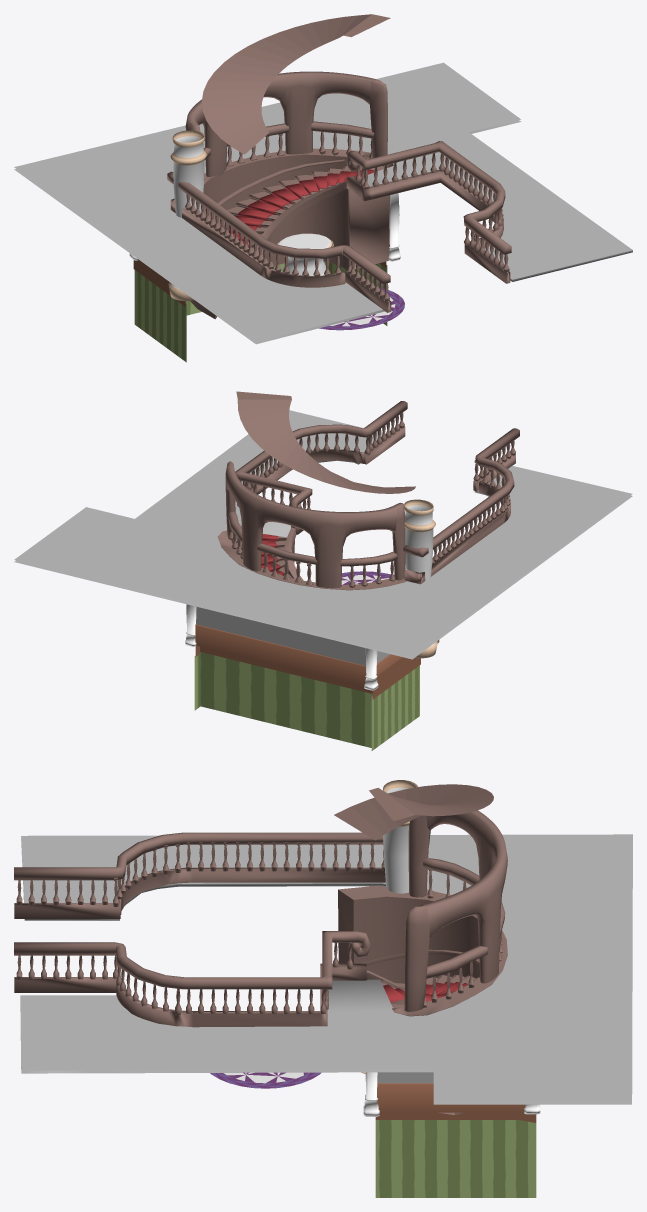
The model's file is NEW HALL pour le beau serge.fbx.
3 renders of one model, top to bottom at view 1: azimuth 30°, elevation 25°; view 2: azimuth 150°, elevation 25°; view 3: azimuth 270°, elevation 25°, orthographic. The views are drawn at different scales.
Visible parts, largest first — view 1: pisodos_061, Plane_002, ESCALERAS_003.002, Cube_096, pisodos_011, wall001_18, pisodos_026, pisodos_008, ESCALERAS_001, pisodos_006, ESCALERAS_003, pisodos_044 (+5 smaller); view 2: pisodos_061, wall001_20, pisodos_011, Cube_001_23, Cube_096, ESCALERAS_003.002, wall001_18, pisodos_026, pisodos_008, Plane_002, pisodos_006, Cube_083 (+3 smaller); view 3: pisodos_061, Cube_096, wall001_22, pisodos_011, Plane_002, pisodos_026, ESCALERAS_003.002, pisodos_006, Cube_001_25, pisodos_008, Cube_083, pisodos_004 (+4 smaller).
Part boxes in pixels (x1=…): pisodos_061: x1=14, y1=62, x2=632, y2=344; Plane_002: x1=190, y1=148, x2=393, y2=319; ESCALERAS_003.002: x1=201, y1=14, x2=390, y2=154; Cube_096: x1=346, y1=141, x2=511, y2=283; pisodos_011: x1=185, y1=71, x2=387, y2=176; wall001_18: x1=134, y1=270, x2=186, y2=362; pisodos_026: x1=167, y1=171, x2=390, y2=283; pisodos_008: x1=168, y1=130, x2=207, y2=301; ESCALERAS_001: x1=229, y1=169, x2=377, y2=246; pisodos_006: x1=170, y1=198, x2=345, y2=287; ESCALERAS_003: x1=227, y1=166, x2=383, y2=251; pisodos_044: x1=277, y1=233, x2=333, y2=275; pisodos_061: x1=14, y1=410, x2=632, y2=659; wall001_20: x1=198, y1=651, x2=372, y2=747; pisodos_011: x1=225, y1=461, x2=405, y2=588; Cube_001_23: x1=195, y1=606, x2=366, y2=686; Cube_096: x1=235, y1=401, x2=407, y2=534; ESCALERAS_003.002: x1=236, y1=391, x2=415, y2=493; wall001_18: x1=371, y1=665, x2=419, y2=750; pisodos_026: x1=403, y1=428, x2=519, y2=557; pisodos_008: x1=403, y1=499, x2=437, y2=658; Plane_002: x1=217, y1=527, x2=439, y2=643; pisodos_006: x1=404, y1=481, x2=510, y2=584; Cube_083: x1=228, y1=511, x2=397, y2=566; pisodos_061: x1=20, y1=834, x2=632, y2=1104; Cube_096: x1=14, y1=931, x2=370, y2=1027; wall001_22: x1=375, y1=1120, x2=536, y2=1197; pisodos_011: x1=404, y1=810, x2=507, y2=1011; Plane_002: x1=338, y1=885, x2=507, y2=1115; pisodos_026: x1=14, y1=832, x2=383, y2=880; ESCALERAS_003.002: x1=334, y1=784, x2=493, y2=840; pisodos_006: x1=118, y1=867, x2=385, y2=914; Cube_001_25: x1=377, y1=1072, x2=525, y2=1112; pisodos_008: x1=383, y1=780, x2=418, y2=893; Cube_083: x1=409, y1=858, x2=505, y2=982; pisodos_004: x1=14, y1=903, x2=120, y2=918.
Size of the model in its own units: 3451 by 2308 by 3376.
